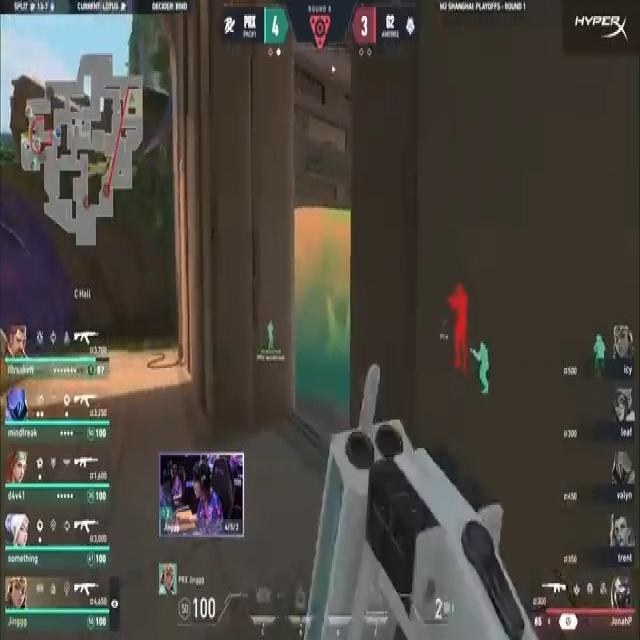ally behind wall: (472, 340, 495, 392), (592, 331, 606, 378), (265, 317, 277, 350)
enemy behind wall: (446, 282, 470, 380)
